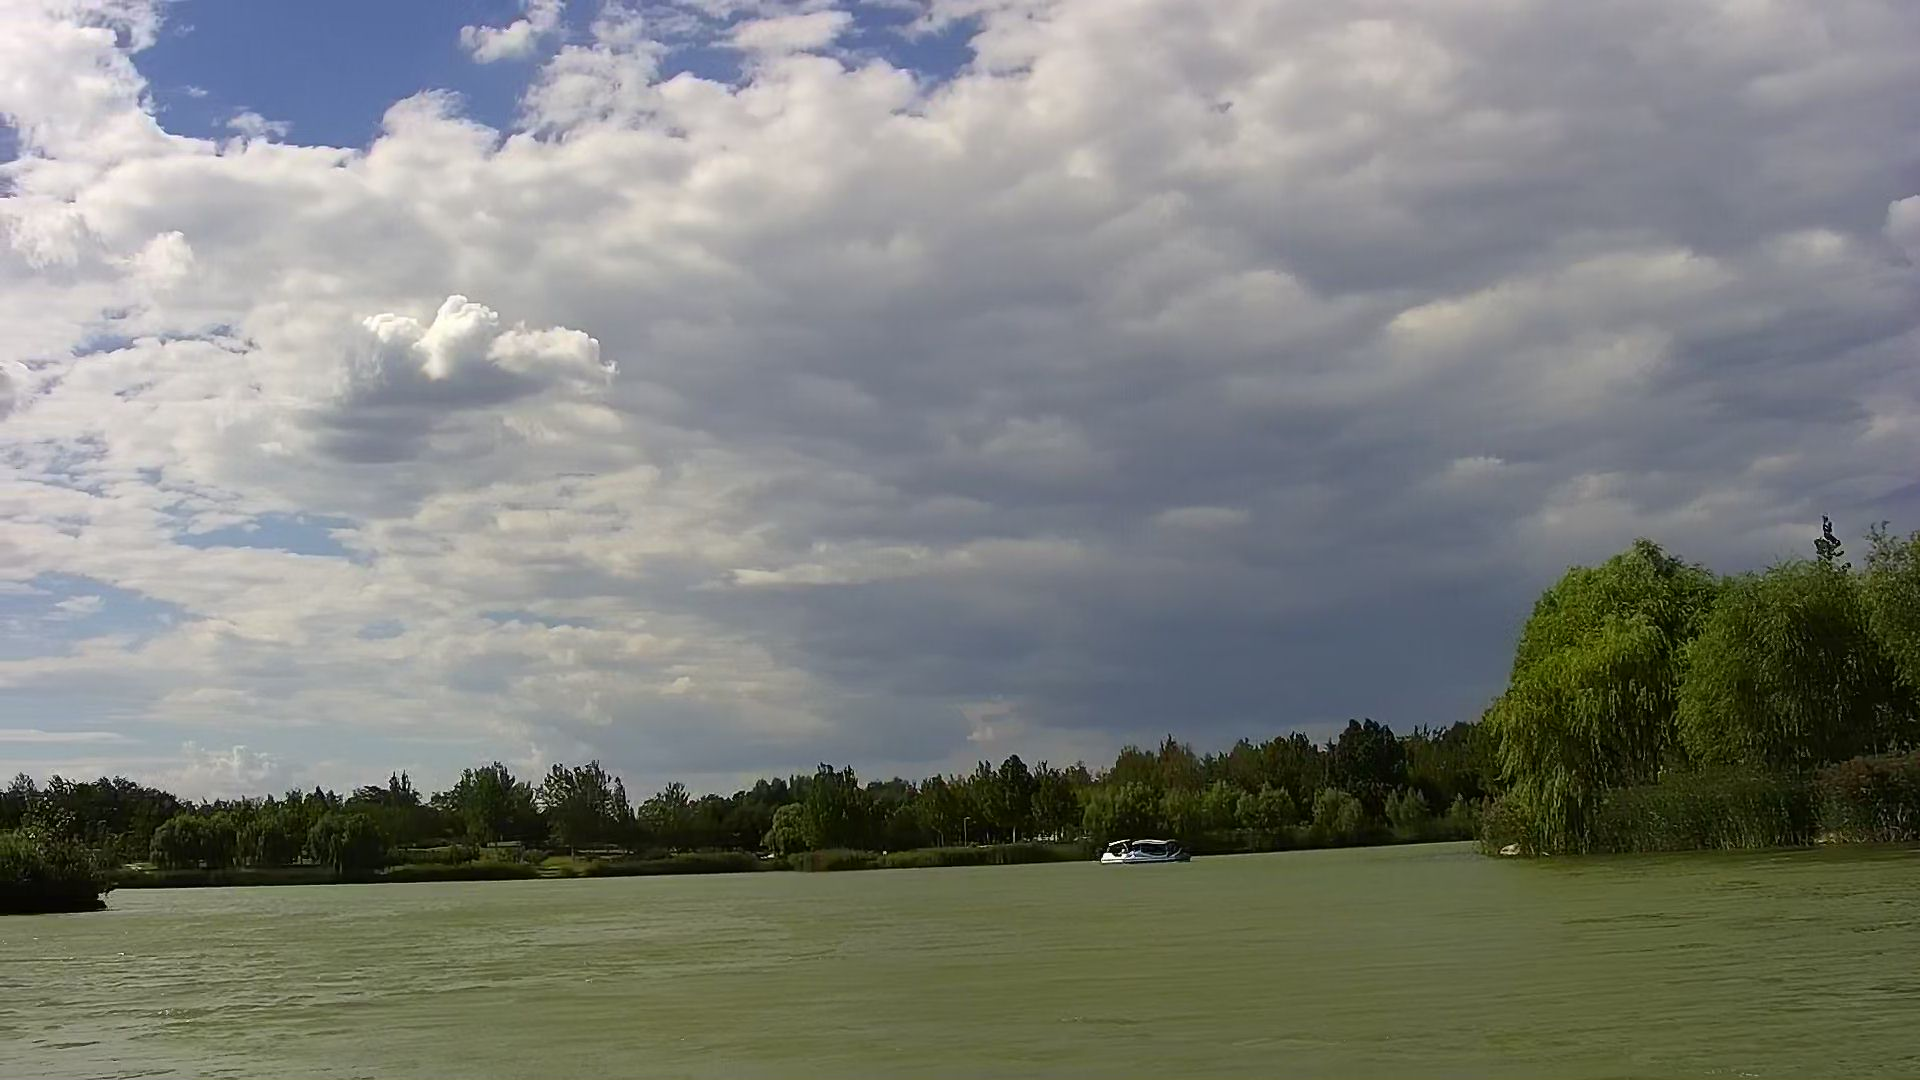boat: (1124, 837, 1193, 866), (1095, 839, 1153, 864)
rock: (1501, 841, 1524, 861)
